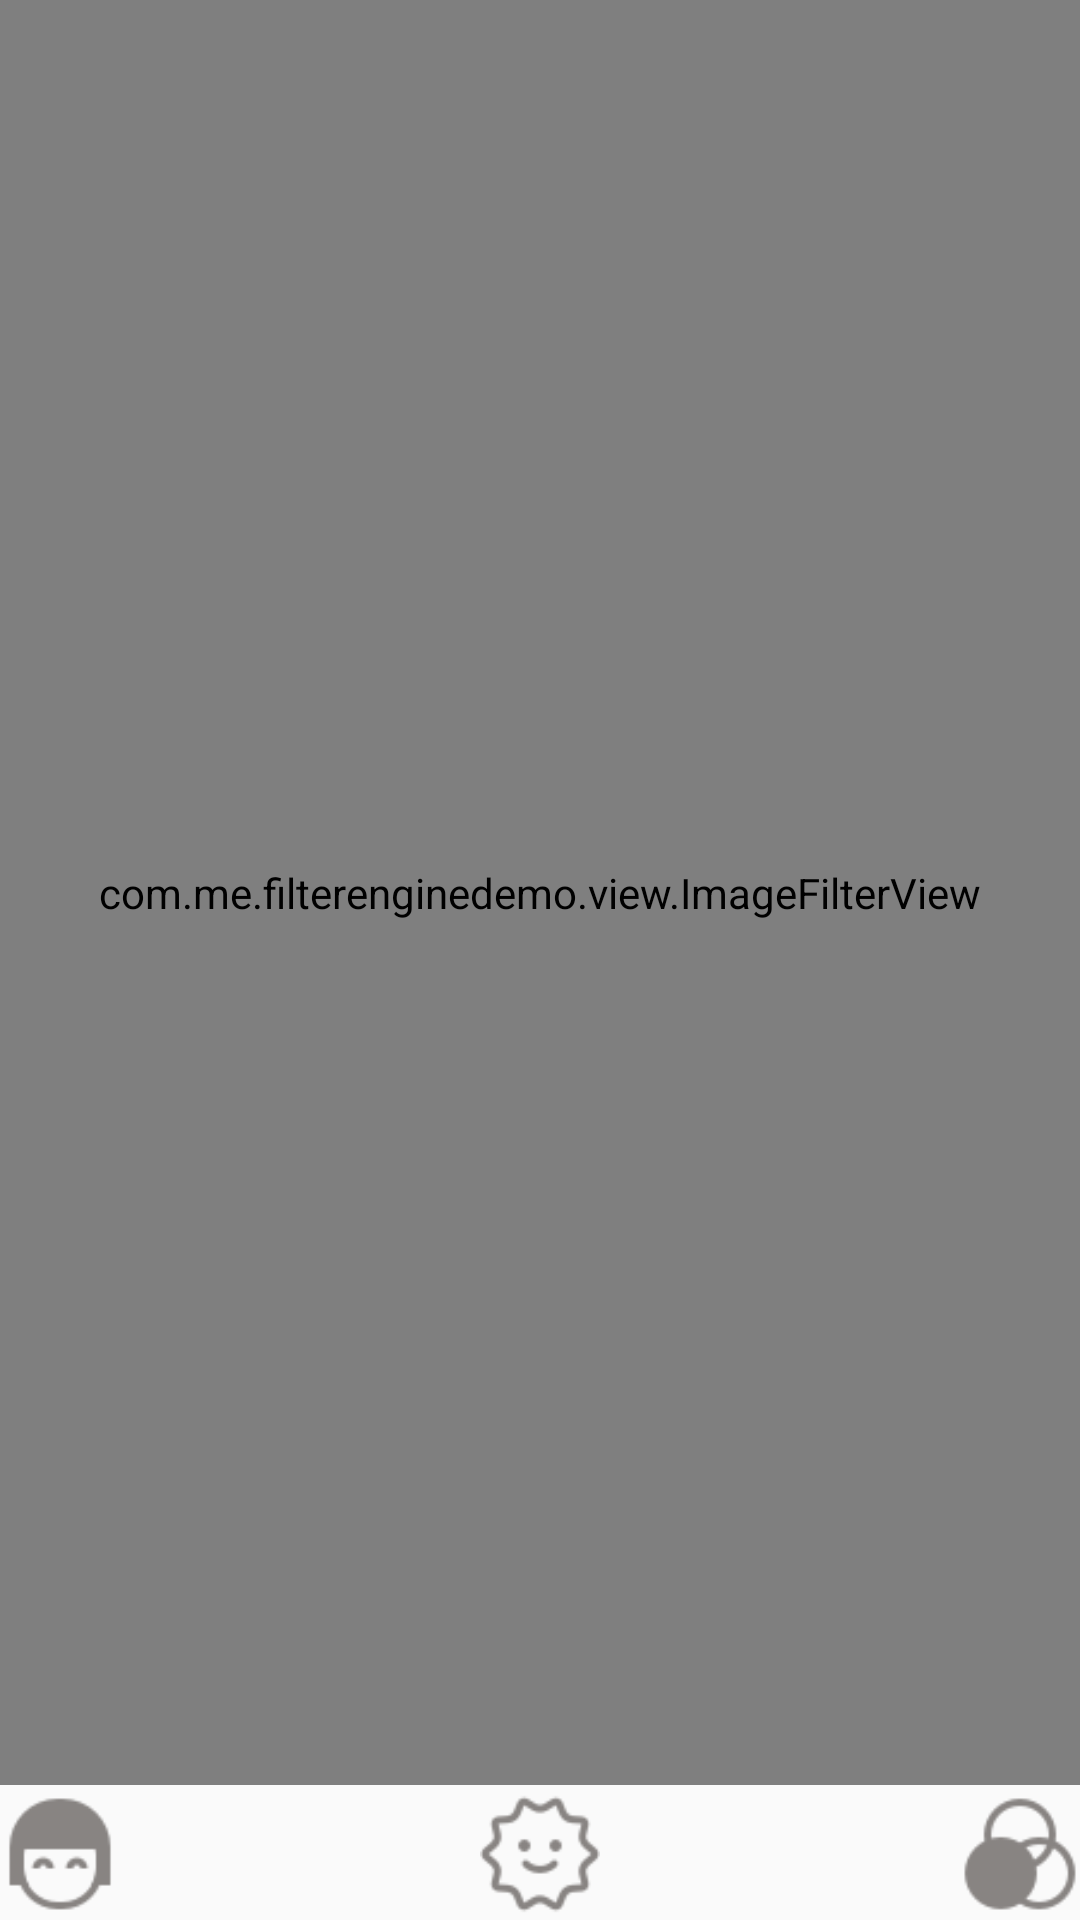

Screen size 1080*1920. Icon name, then its box in pixels as (x1, y1, x2, y2):
adjust off: (480, 1797, 600, 1911)
beautify off: (9, 1798, 111, 1910)
filter off: (964, 1798, 1076, 1910)
